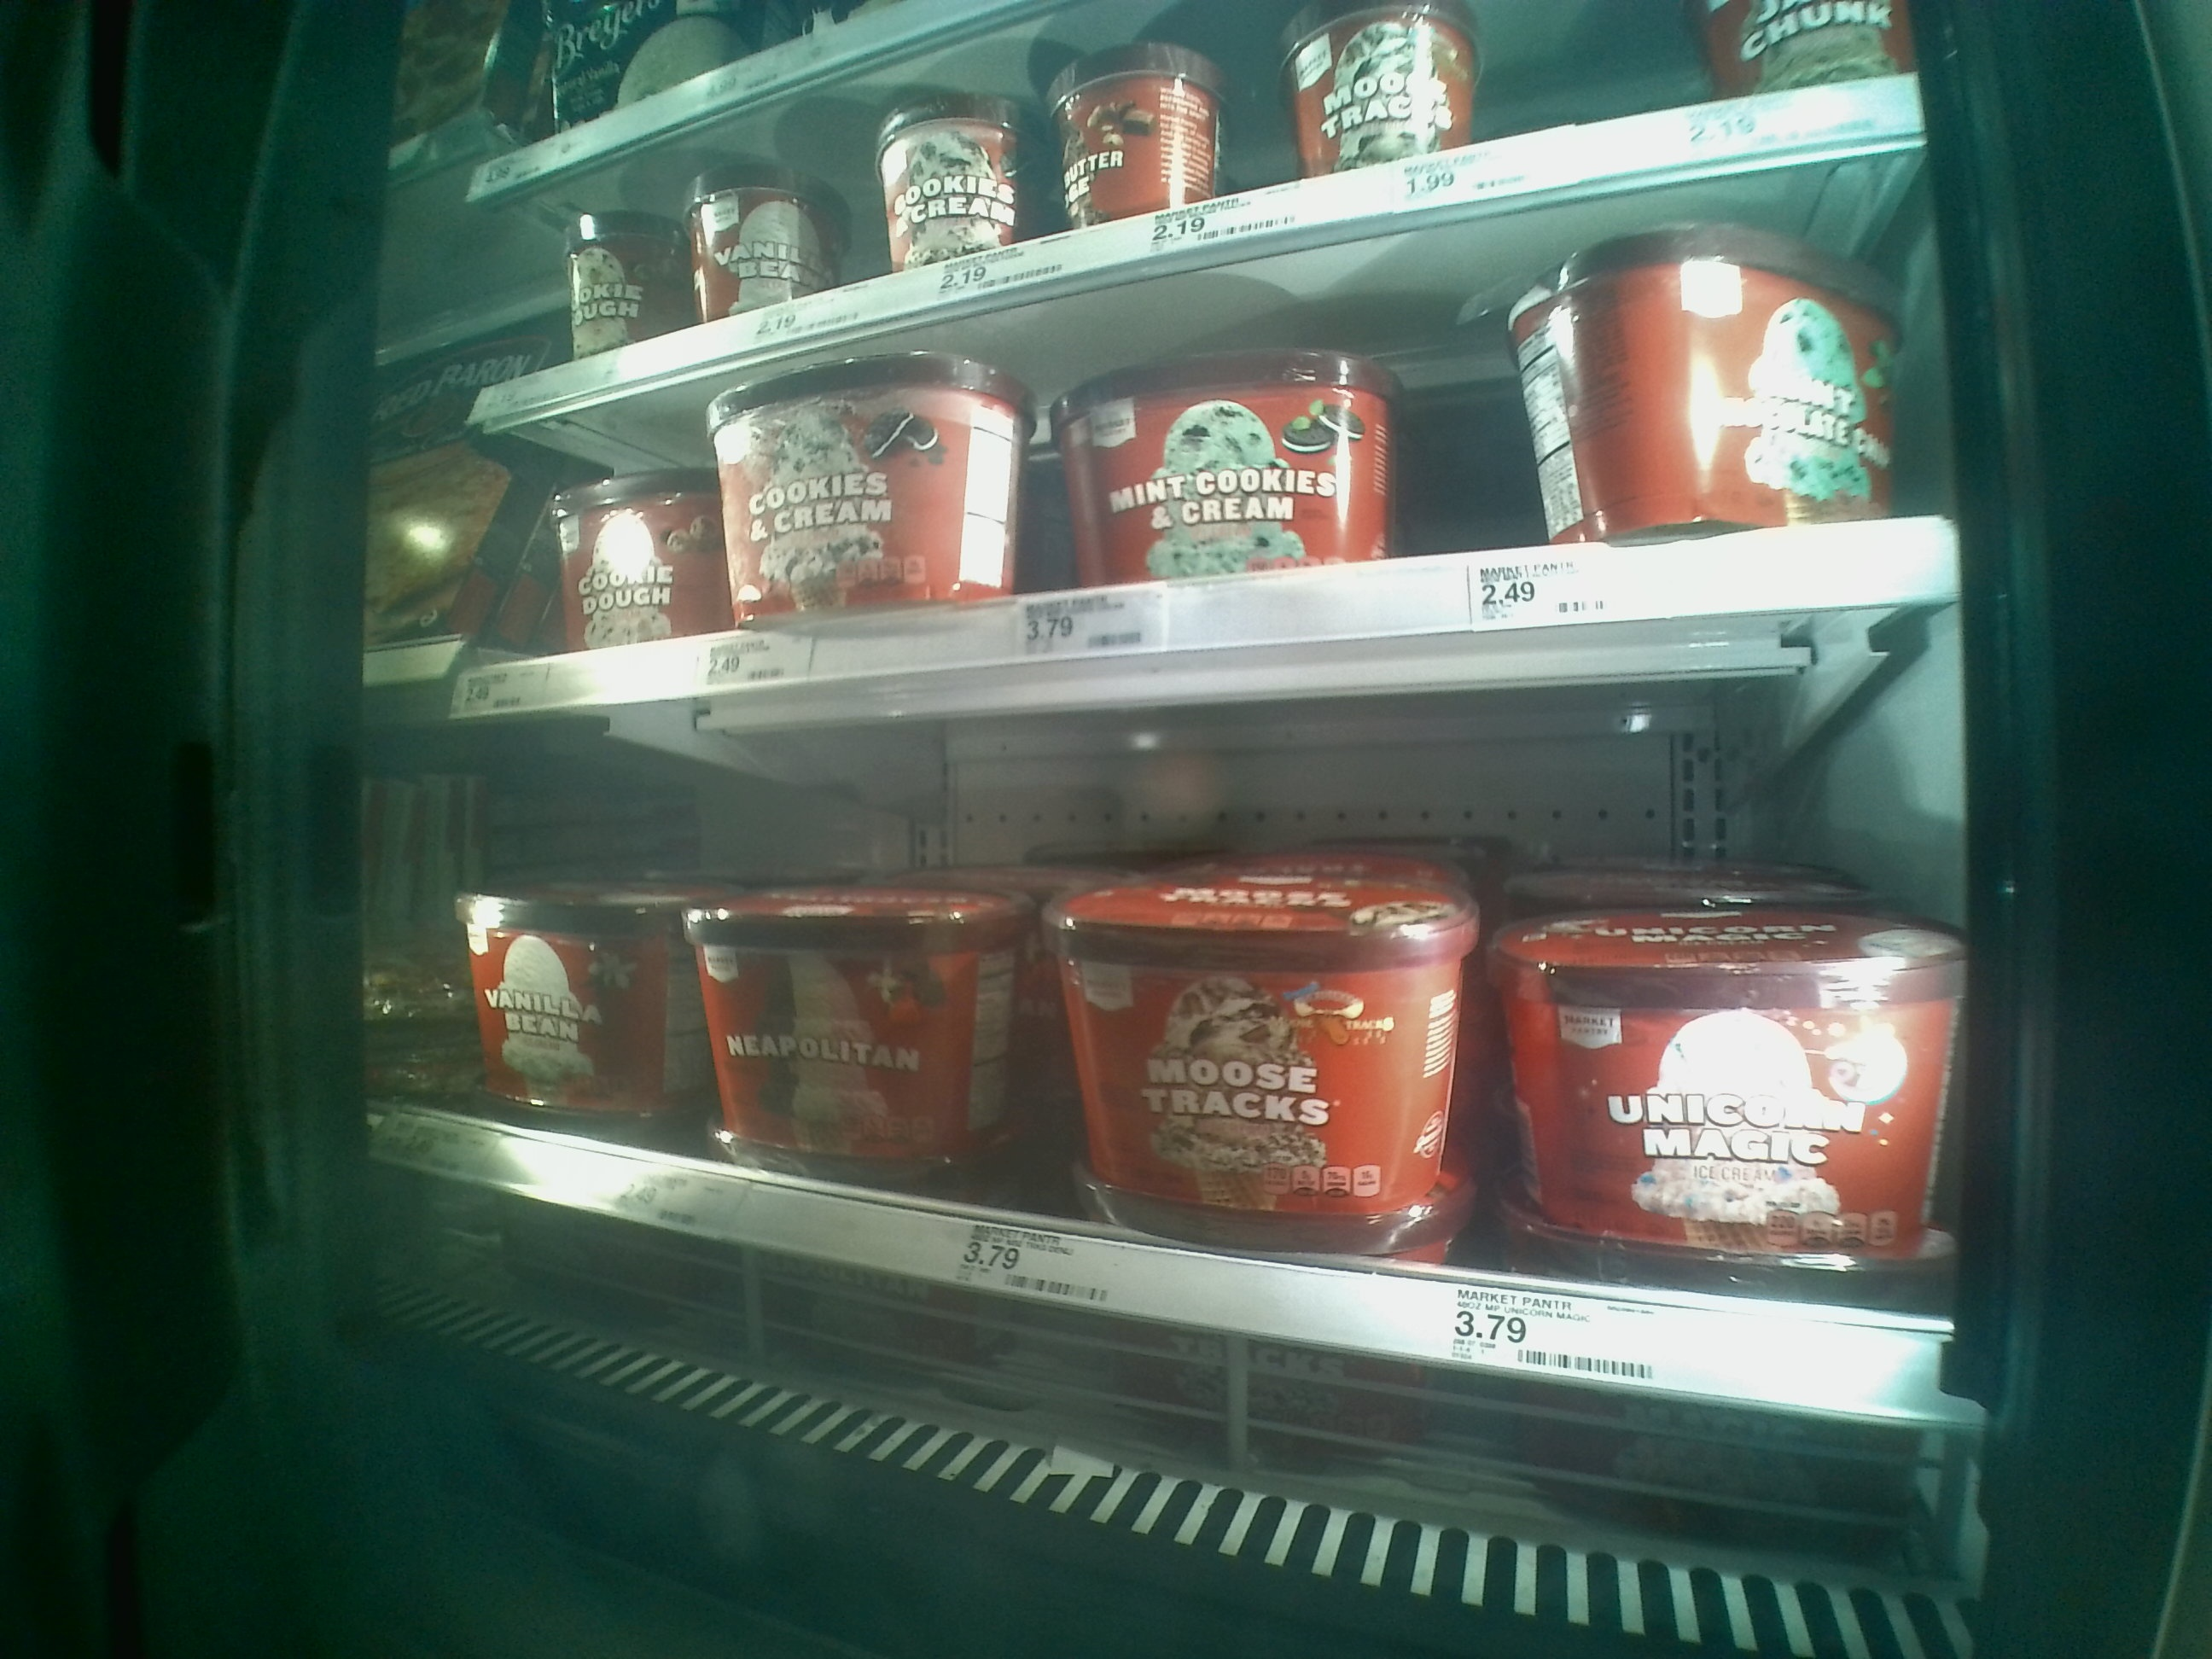shelf: (380, 612, 1965, 1507), (467, 134, 1965, 716)
